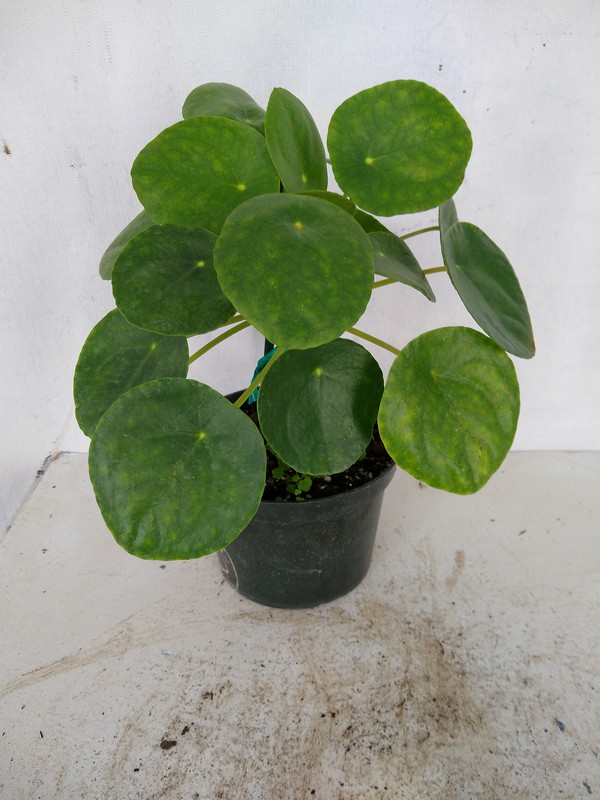plant: (70, 78, 536, 564)
pot: (196, 385, 400, 612)
